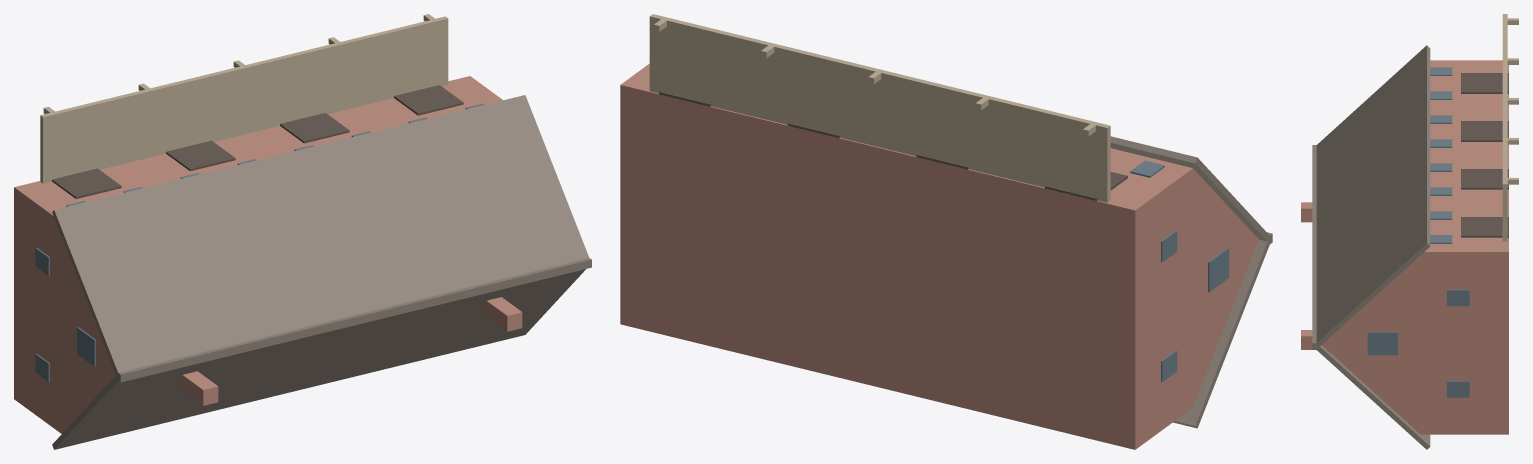
File: r-153-newell-boathouse.glb
3 renders of one model, left to right at view 1: azimuth 30°, elevation 25°; view 2: azimuth 150°, elevation 25°; view 3: azimuth 270°, elevation 25°, orthographic. The views are drawn at different scales.
Visible parts, largest first — view 1: slate-roof, dock, brick-walls, boat-bay-doors, windows; view 2: brick-walls, dock, slate-roof, windows, boat-bay-doors; view 3: brick-walls, slate-roof, boat-bay-doors, windows, dock.
Part boxes in pixels (x1=…): slate-roof: x1=52, y1=95, x2=591, y2=449; dock: x1=40, y1=14, x2=448, y2=183; brick-walls: x1=14, y1=76, x2=522, y2=433; boat-bay-doors: x1=52, y1=85, x2=463, y2=198; windows: x1=35, y1=103, x2=484, y2=381; brick-walls: x1=620, y1=63, x2=1258, y2=449; dock: x1=649, y1=14, x2=1110, y2=202; slate-roof: x1=1110, y1=136, x2=1272, y2=428; windows: x1=1130, y1=160, x2=1229, y2=382; boat-bay-doors: x1=659, y1=91, x2=1127, y2=200; brick-walls: x1=1301, y1=60, x2=1508, y2=434; slate-roof: x1=1312, y1=45, x2=1430, y2=449; boat-bay-doors: x1=1461, y1=73, x2=1508, y2=237; windows: x1=1367, y1=67, x2=1469, y2=397; dock: x1=1502, y1=14, x2=1518, y2=241.
Bounding box in the file's own units: 37200 × 22056 × 17300.
